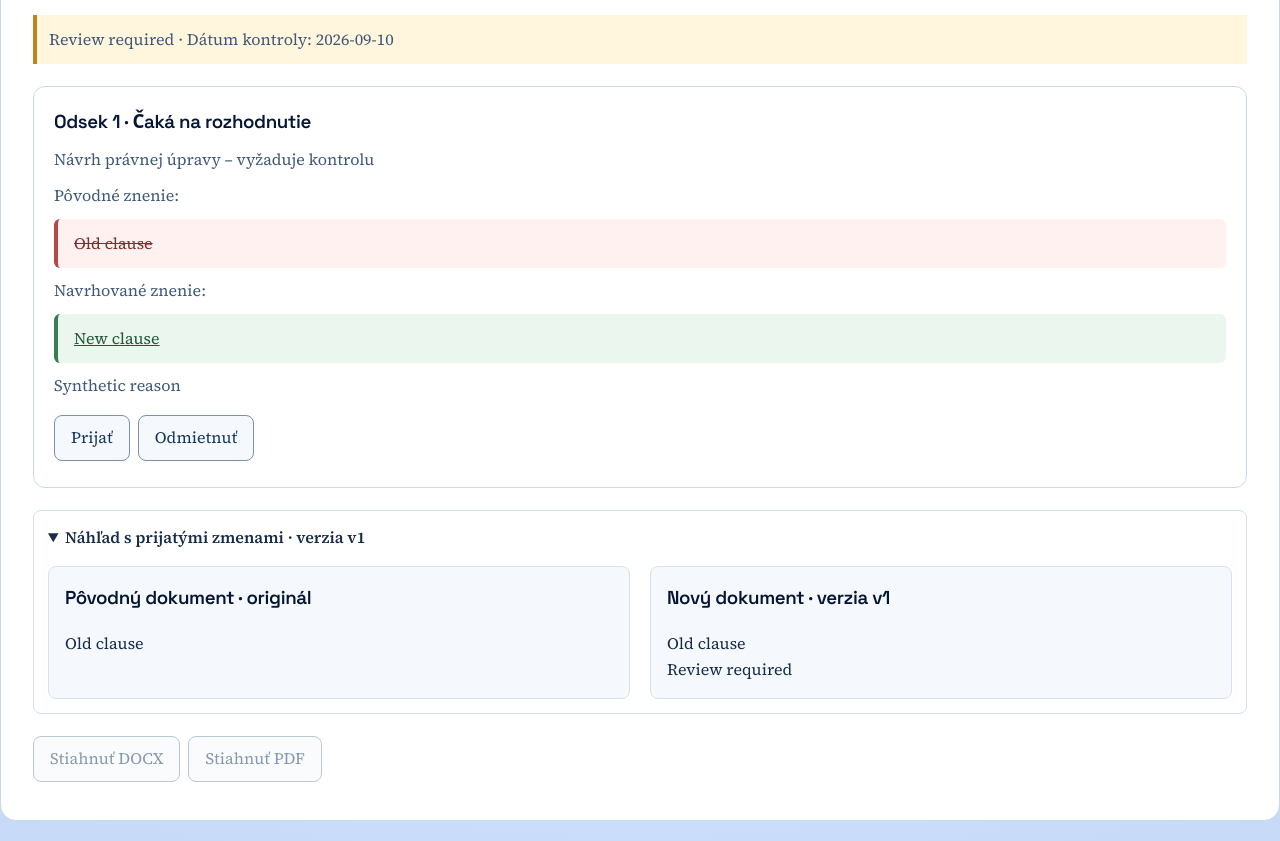
Document review decisions › uses authenticated requests, server preview and revision-bound decisions
(page scrolled)
Expected: the text "Synthetic reason" is shown, 54,374 -> 181,396
Expected: the button "Stiahnuť DOCX" is disabled, 33,736 -> 180,782
Click the button "Prijať".
click(92, 438)  # box 54,415 -> 130,461
(page scrolled)
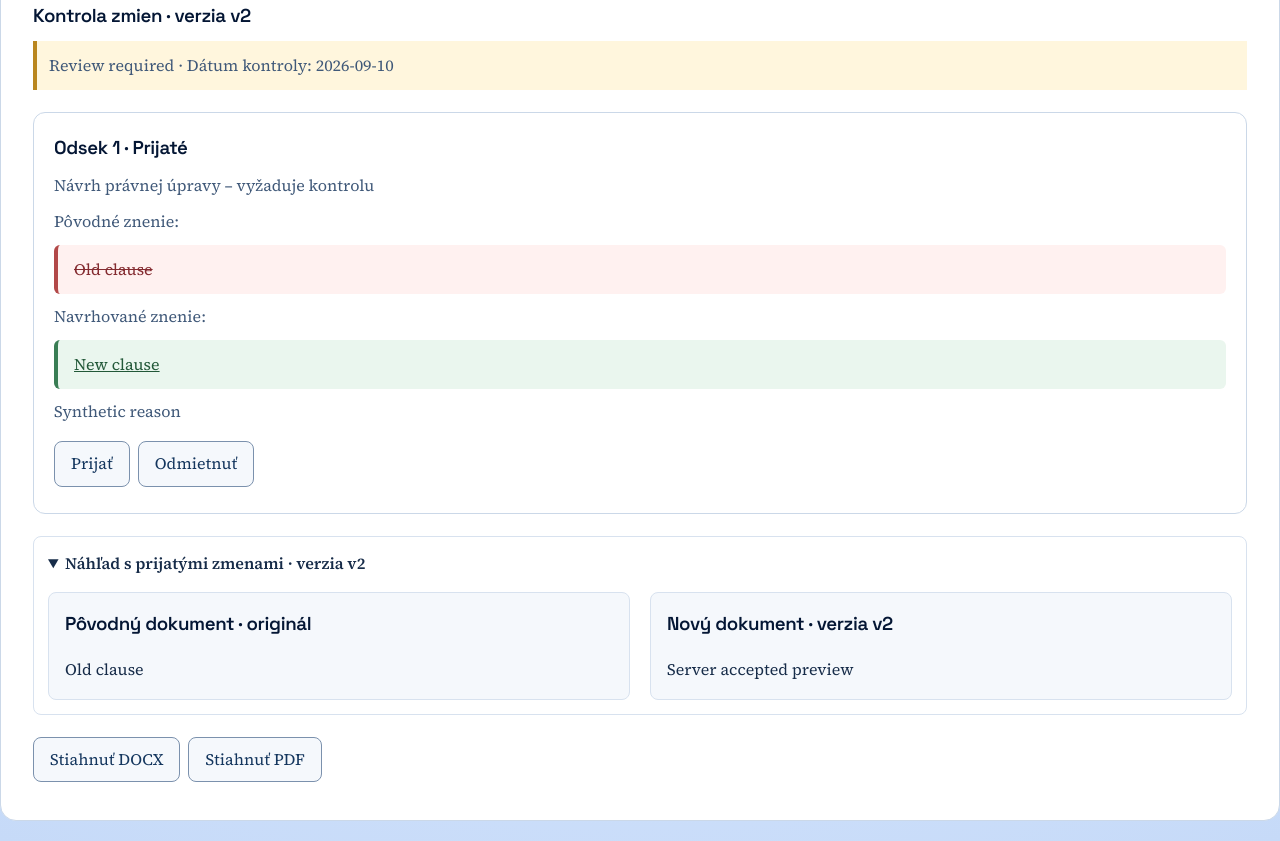
Expected: the text "Server accepted preview" is shown, 667,658 -> 854,680
Expected: the button "Stiahnuť DOCX" is enabled, 33,737 -> 180,782
